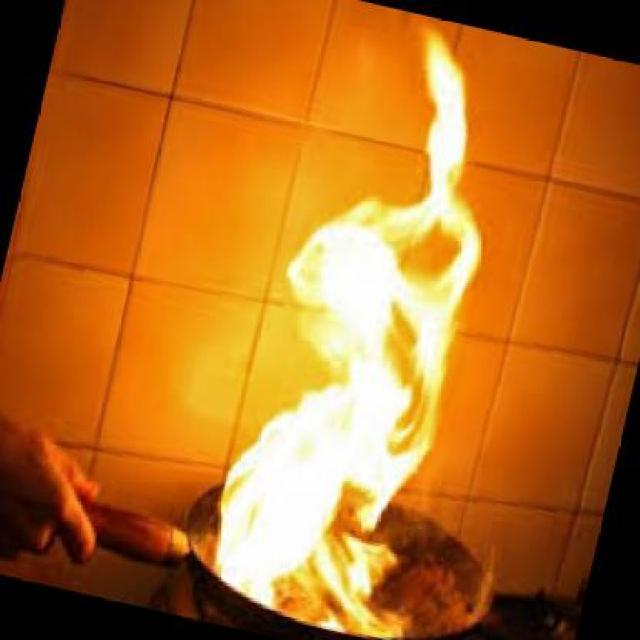Fire: (230, 28, 490, 640)
